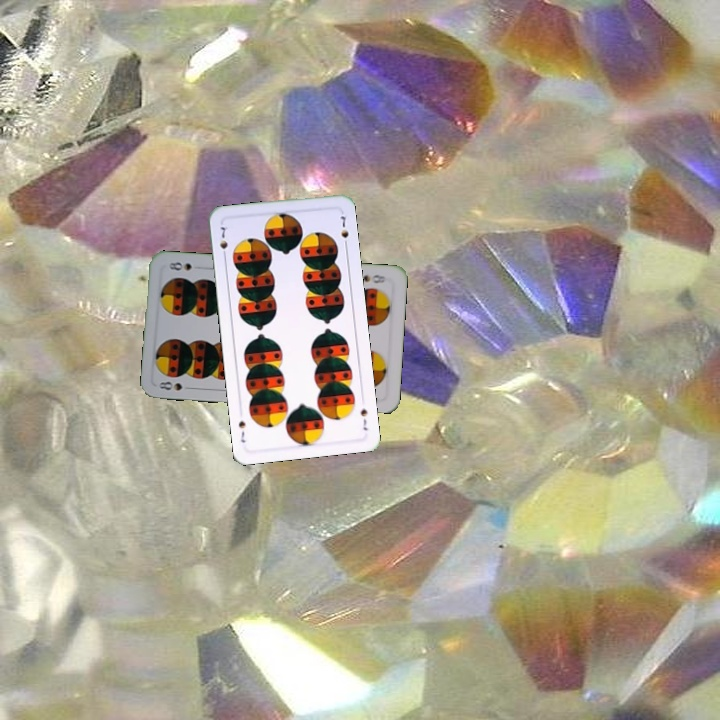S7: (216, 222, 230, 261), (356, 404, 370, 433)
S8: (155, 378, 195, 393), (359, 270, 391, 286)
